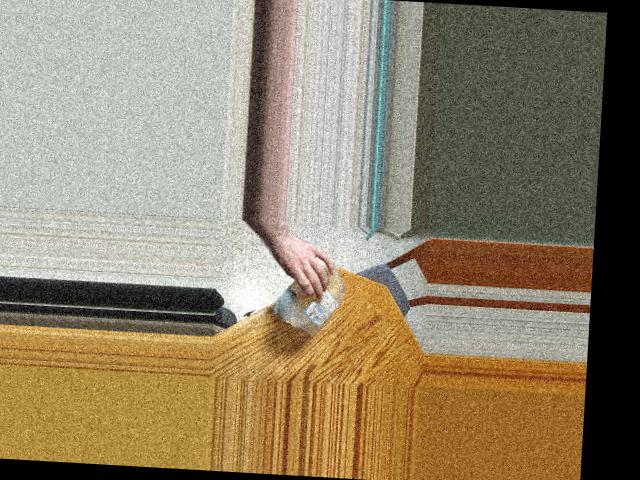cheese: (281, 251, 351, 339)
